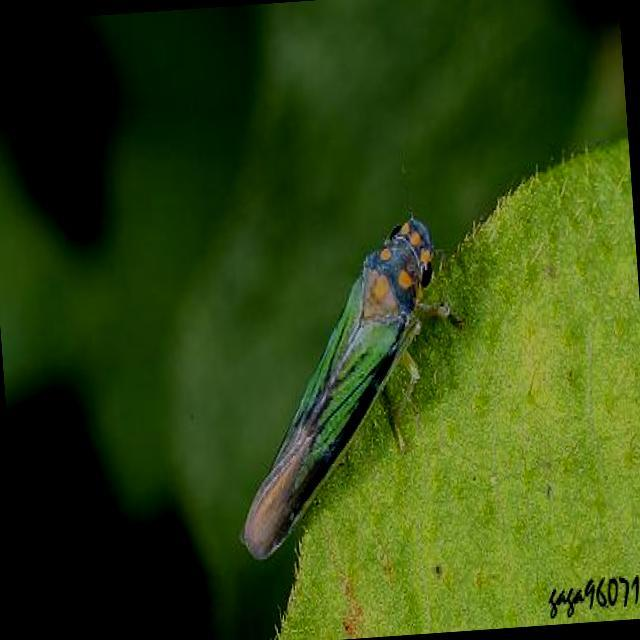green leaf hopper: (241, 216, 460, 559)
